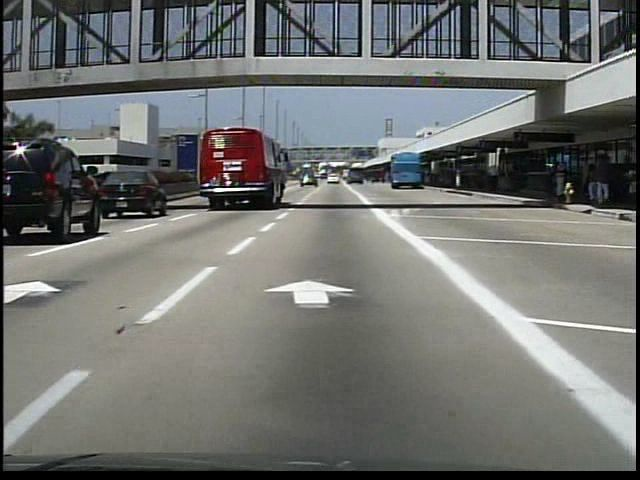person: (624, 162, 639, 202), (489, 164, 502, 192)
